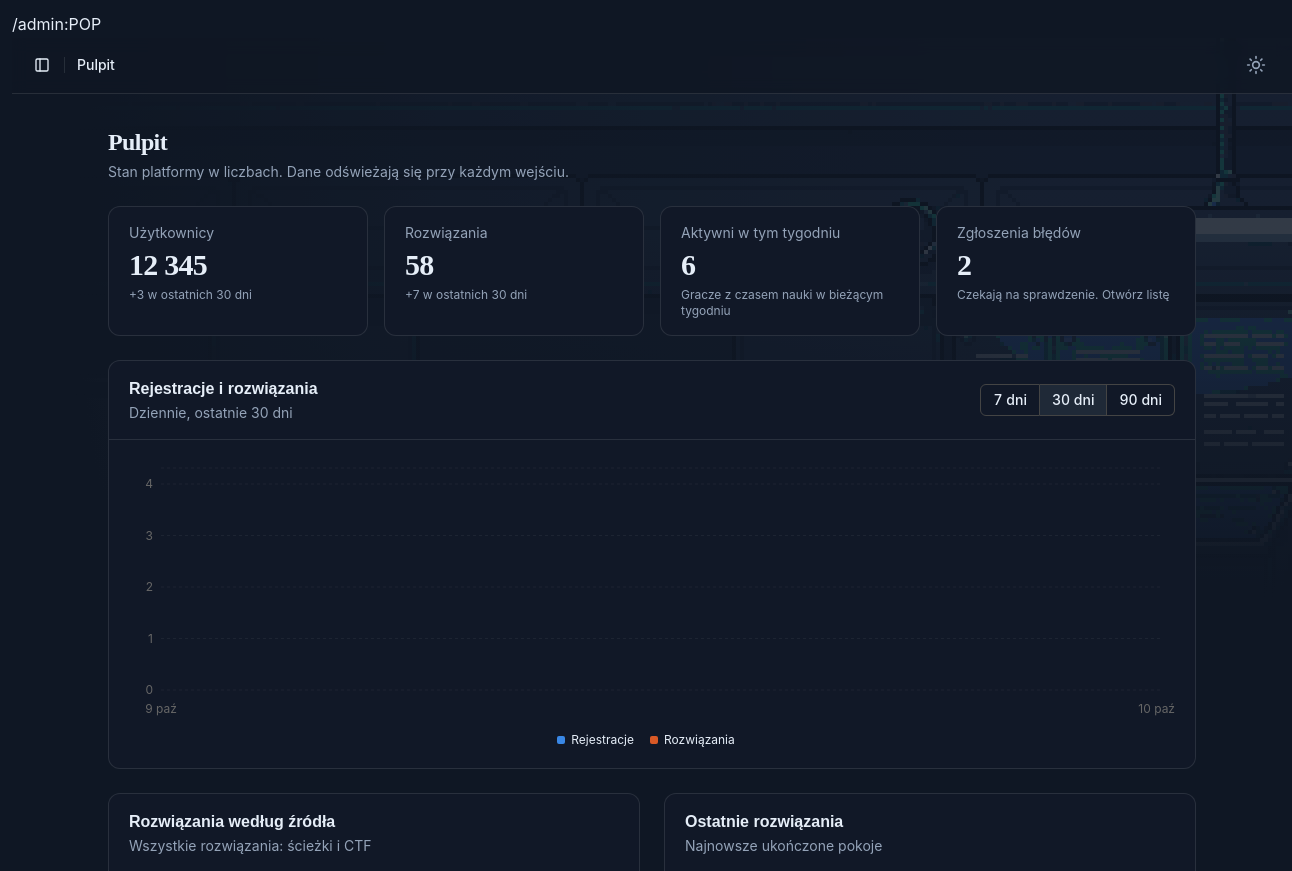
admin dashboard › keeps the displayed period attached to the last successfully loaded data
expect the text "+3 w ostatnich 30 dni" is shown: met, box x1=129 y1=287 x2=252 y2=302
Click the radio button with aria-label "Ostatnie 7 dni" at [1010, 400], box x1=980 y1=384 x2=1040 y2=416
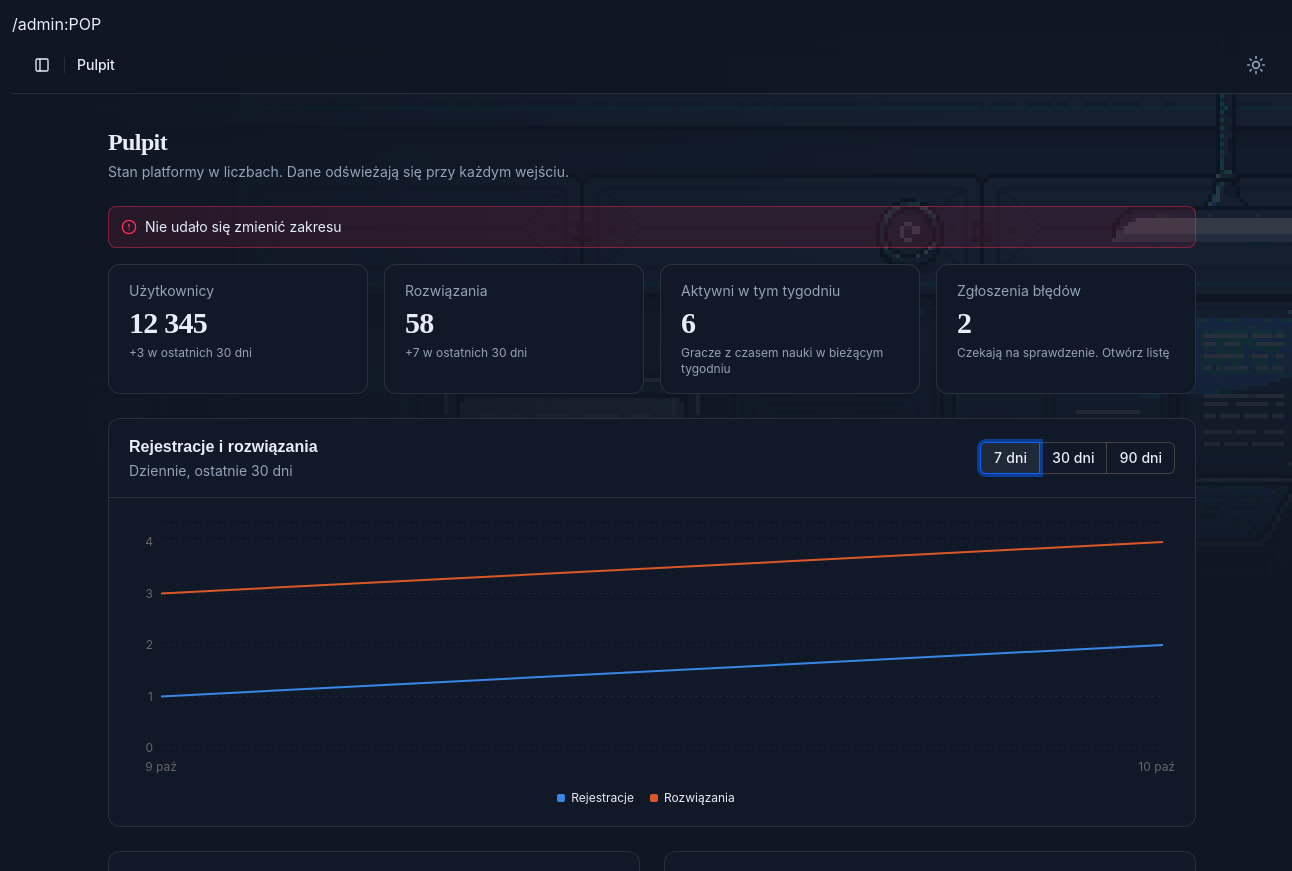
expect the text "+3 w ostatnich 30 dni" is shown: met, box x1=129 y1=345 x2=252 y2=360
expect the text "Nie udało się zmienić zakresu" is shown: met, box x1=145 y1=217 x2=342 y2=237
